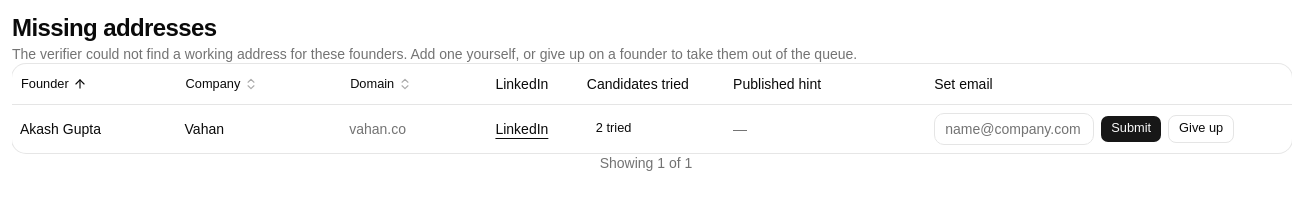
Scenario: collapses tried candidates behind a count until the reviewer expands them
Expected: the text "akash@vahan.co" is not shown
Click the button "2 tried" at (614, 128), box [587,114,640,142]
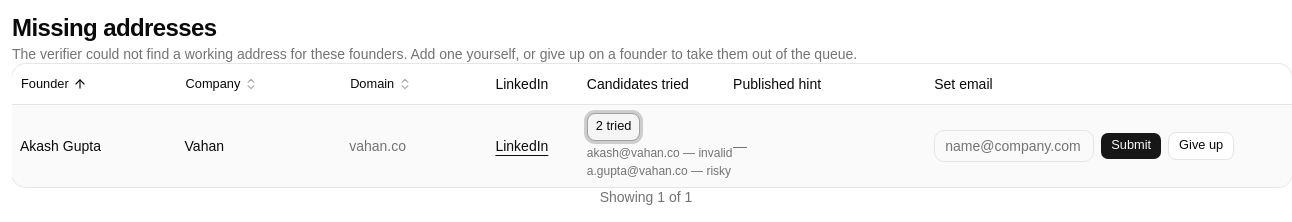
Result: the list item "akash@vahan.co — invalid" is shown at [587,144,717,160]
Result: the list item "a.gupta@vahan.co — risky" is shown at [587,162,717,178]
